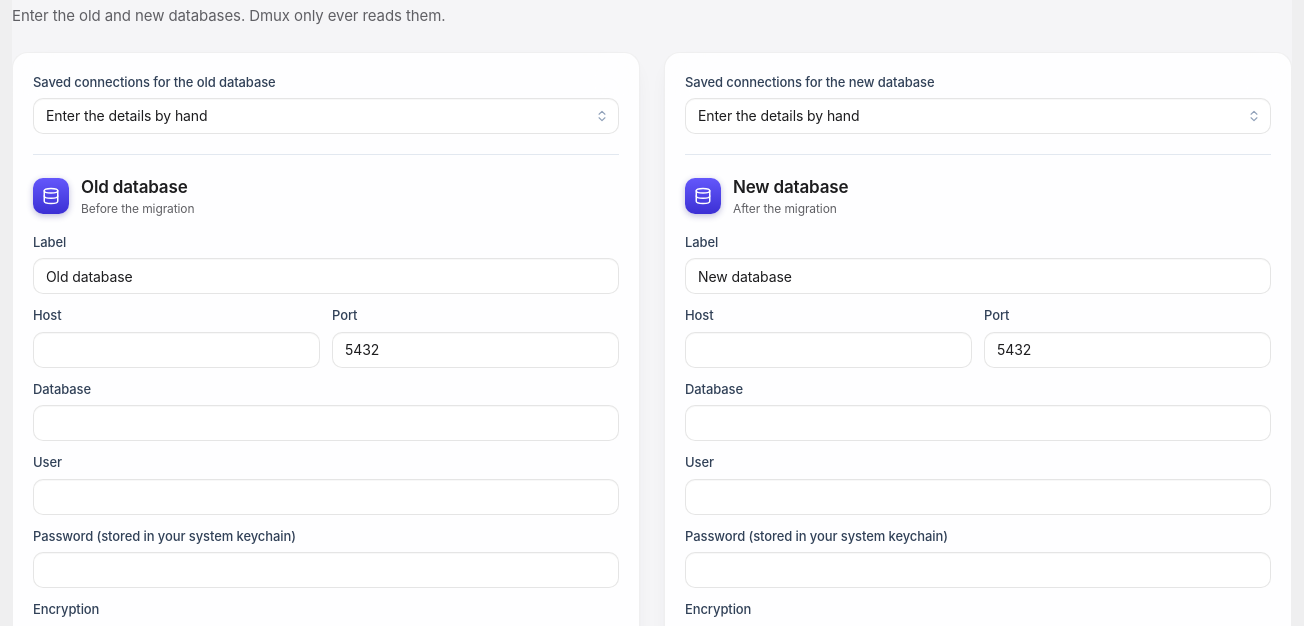
Connect screen: saved connections › deletes a saved connection only after a confirm step
Select "Production (reader@db.example.org:6543/bank)" in the dropdown with test id "Old database-saved-select" at (326, 116), box [33, 98, 619, 134]
(page scrolled)
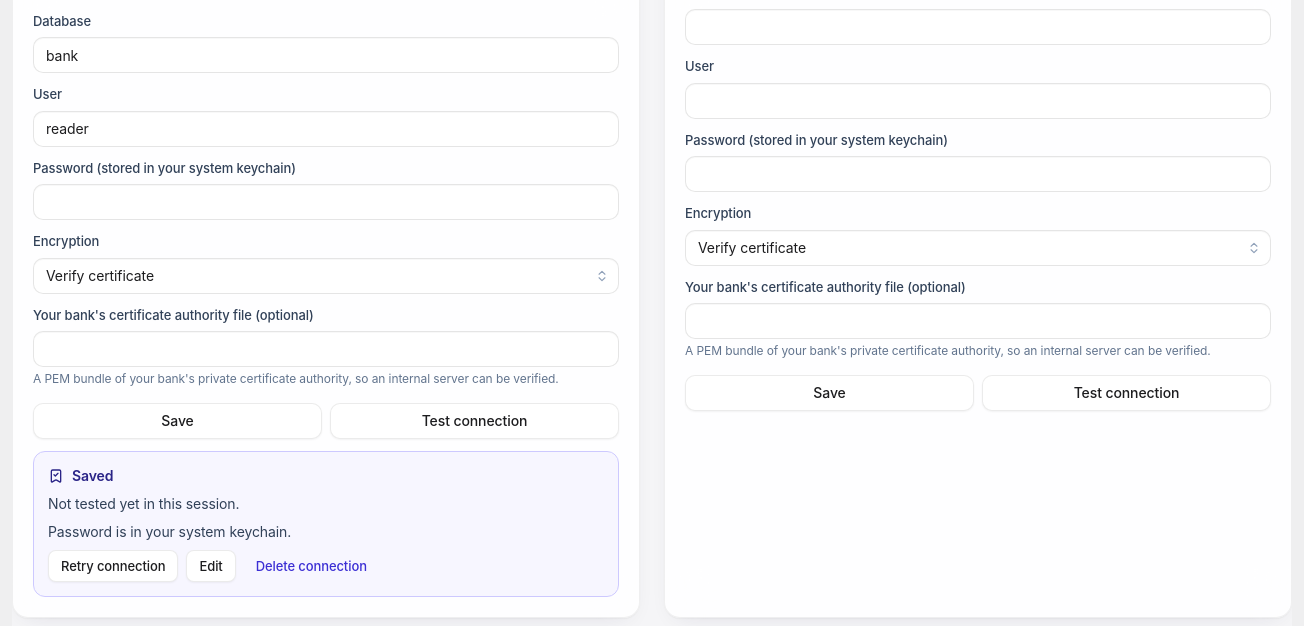
Click the button "Delete connection" at (311, 566), box [244, 550, 379, 582]
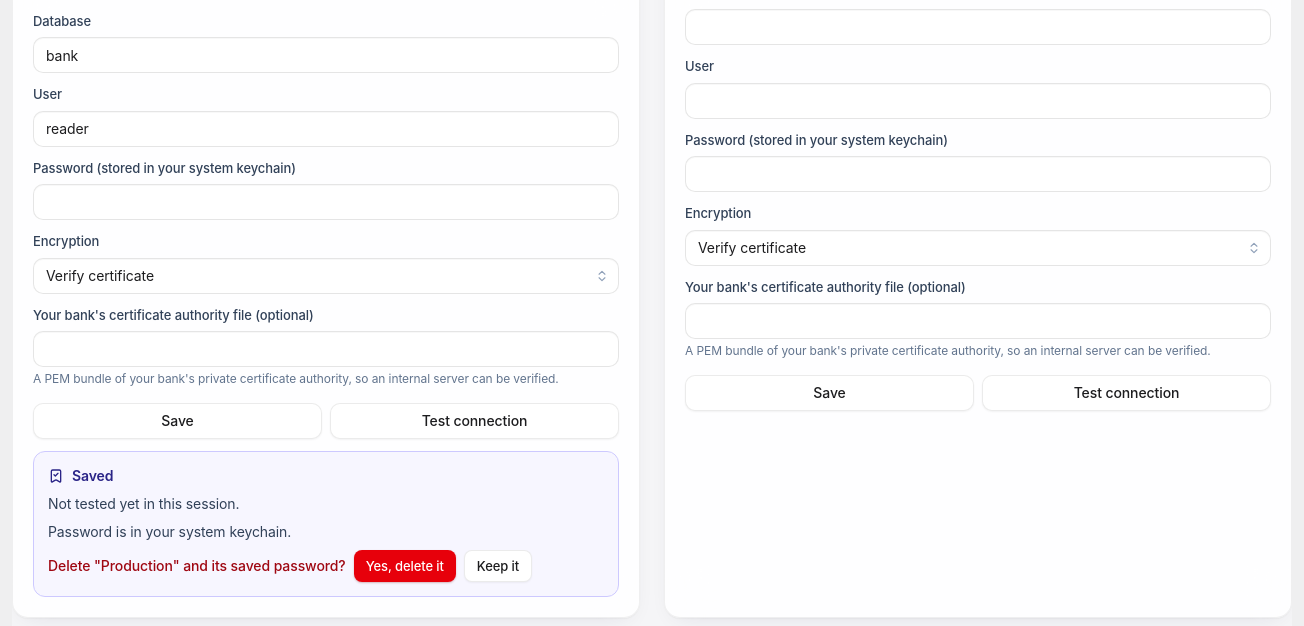
Click the button "Keep it" at (498, 566), box [464, 550, 532, 582]
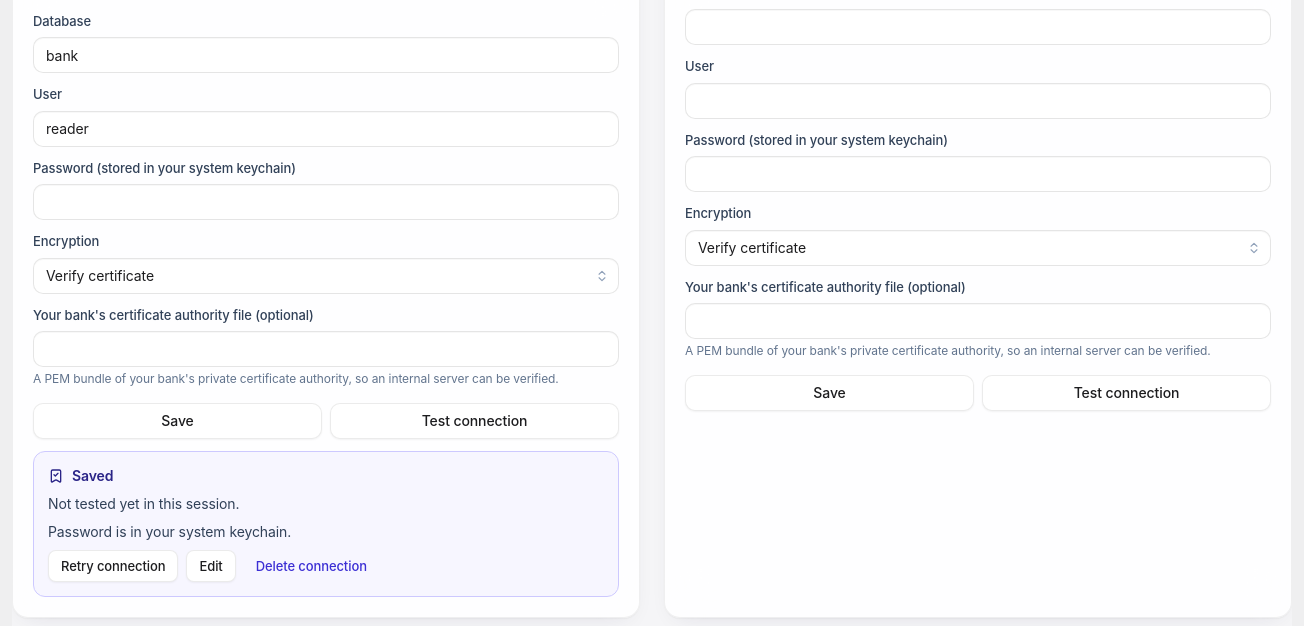
Click the button "Delete connection" at (311, 566), box [244, 550, 379, 582]
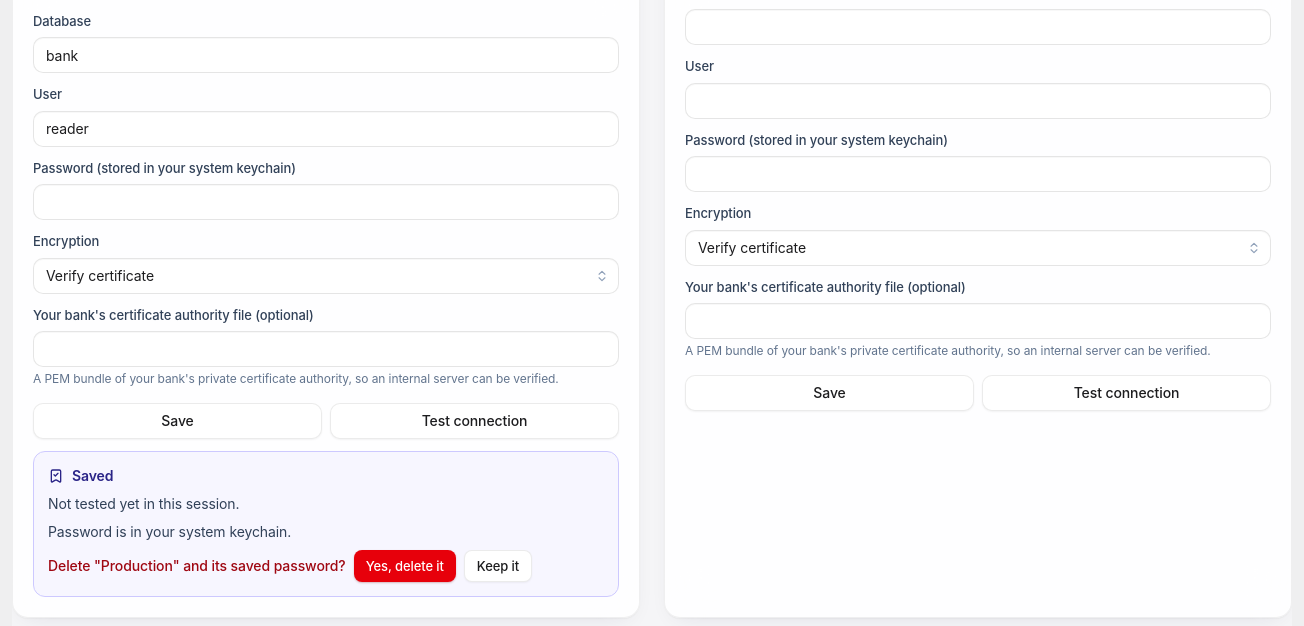
Click the button "Yes, delete it" at (405, 566), box [354, 550, 456, 582]
(page scrolled)
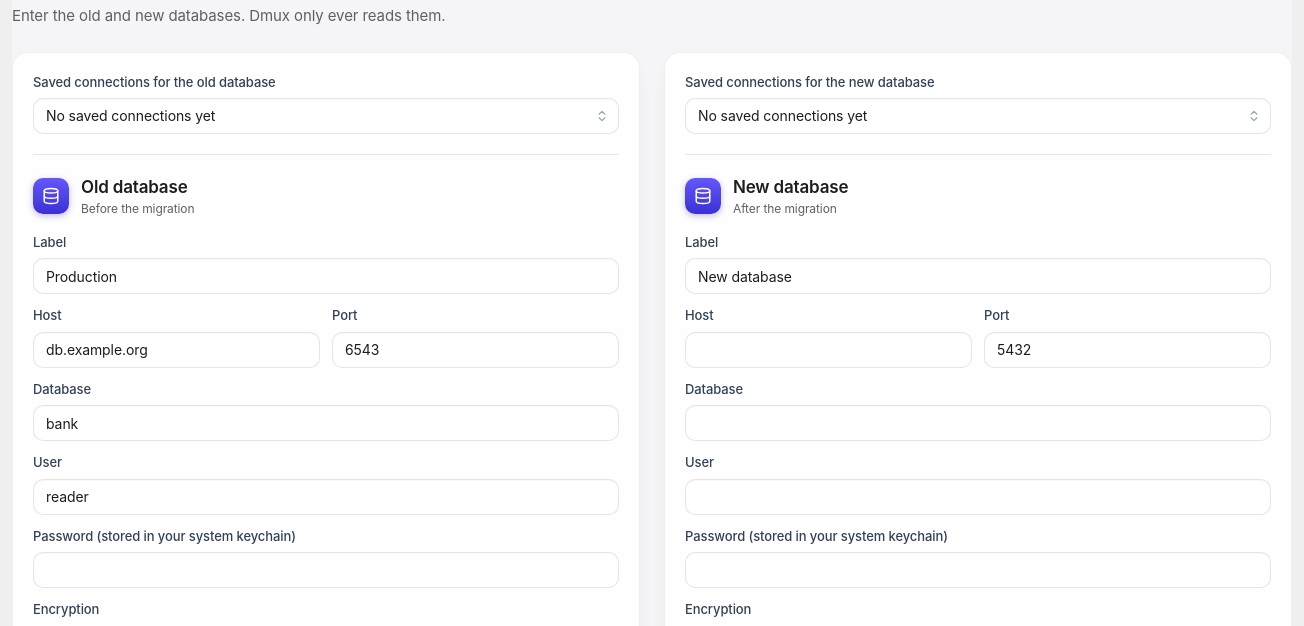
Check: the dropdown with test id "Old database-saved-select" is disabled, box [33, 98, 619, 134]
